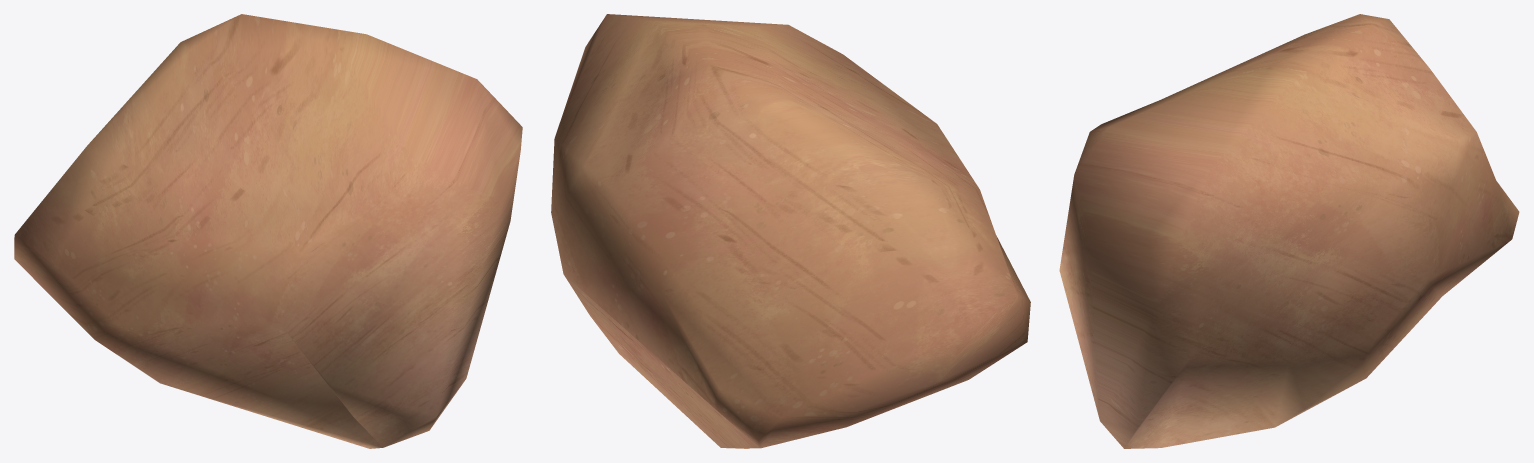
The model's file is rock_1_014.fbx.
3 views of the same model, side by side, from view 1: azimuth 30°, elevation 25°; view 2: azimuth 150°, elevation 25°; view 3: azimuth 270°, elevation 25° (orthographic). The views are drawn at different scales.
Parts seen in each view (by area): view 1: rock 1.014; view 2: rock 1.014; view 3: rock 1.014.
Boxes of the visible parts, box(x1,y1,x2,y2) form: rock 1.014: box(14, 14, 522, 448); rock 1.014: box(551, 14, 1030, 448); rock 1.014: box(1059, 14, 1519, 448).
Size of the model in its own units: 1093 by 922 by 946.
